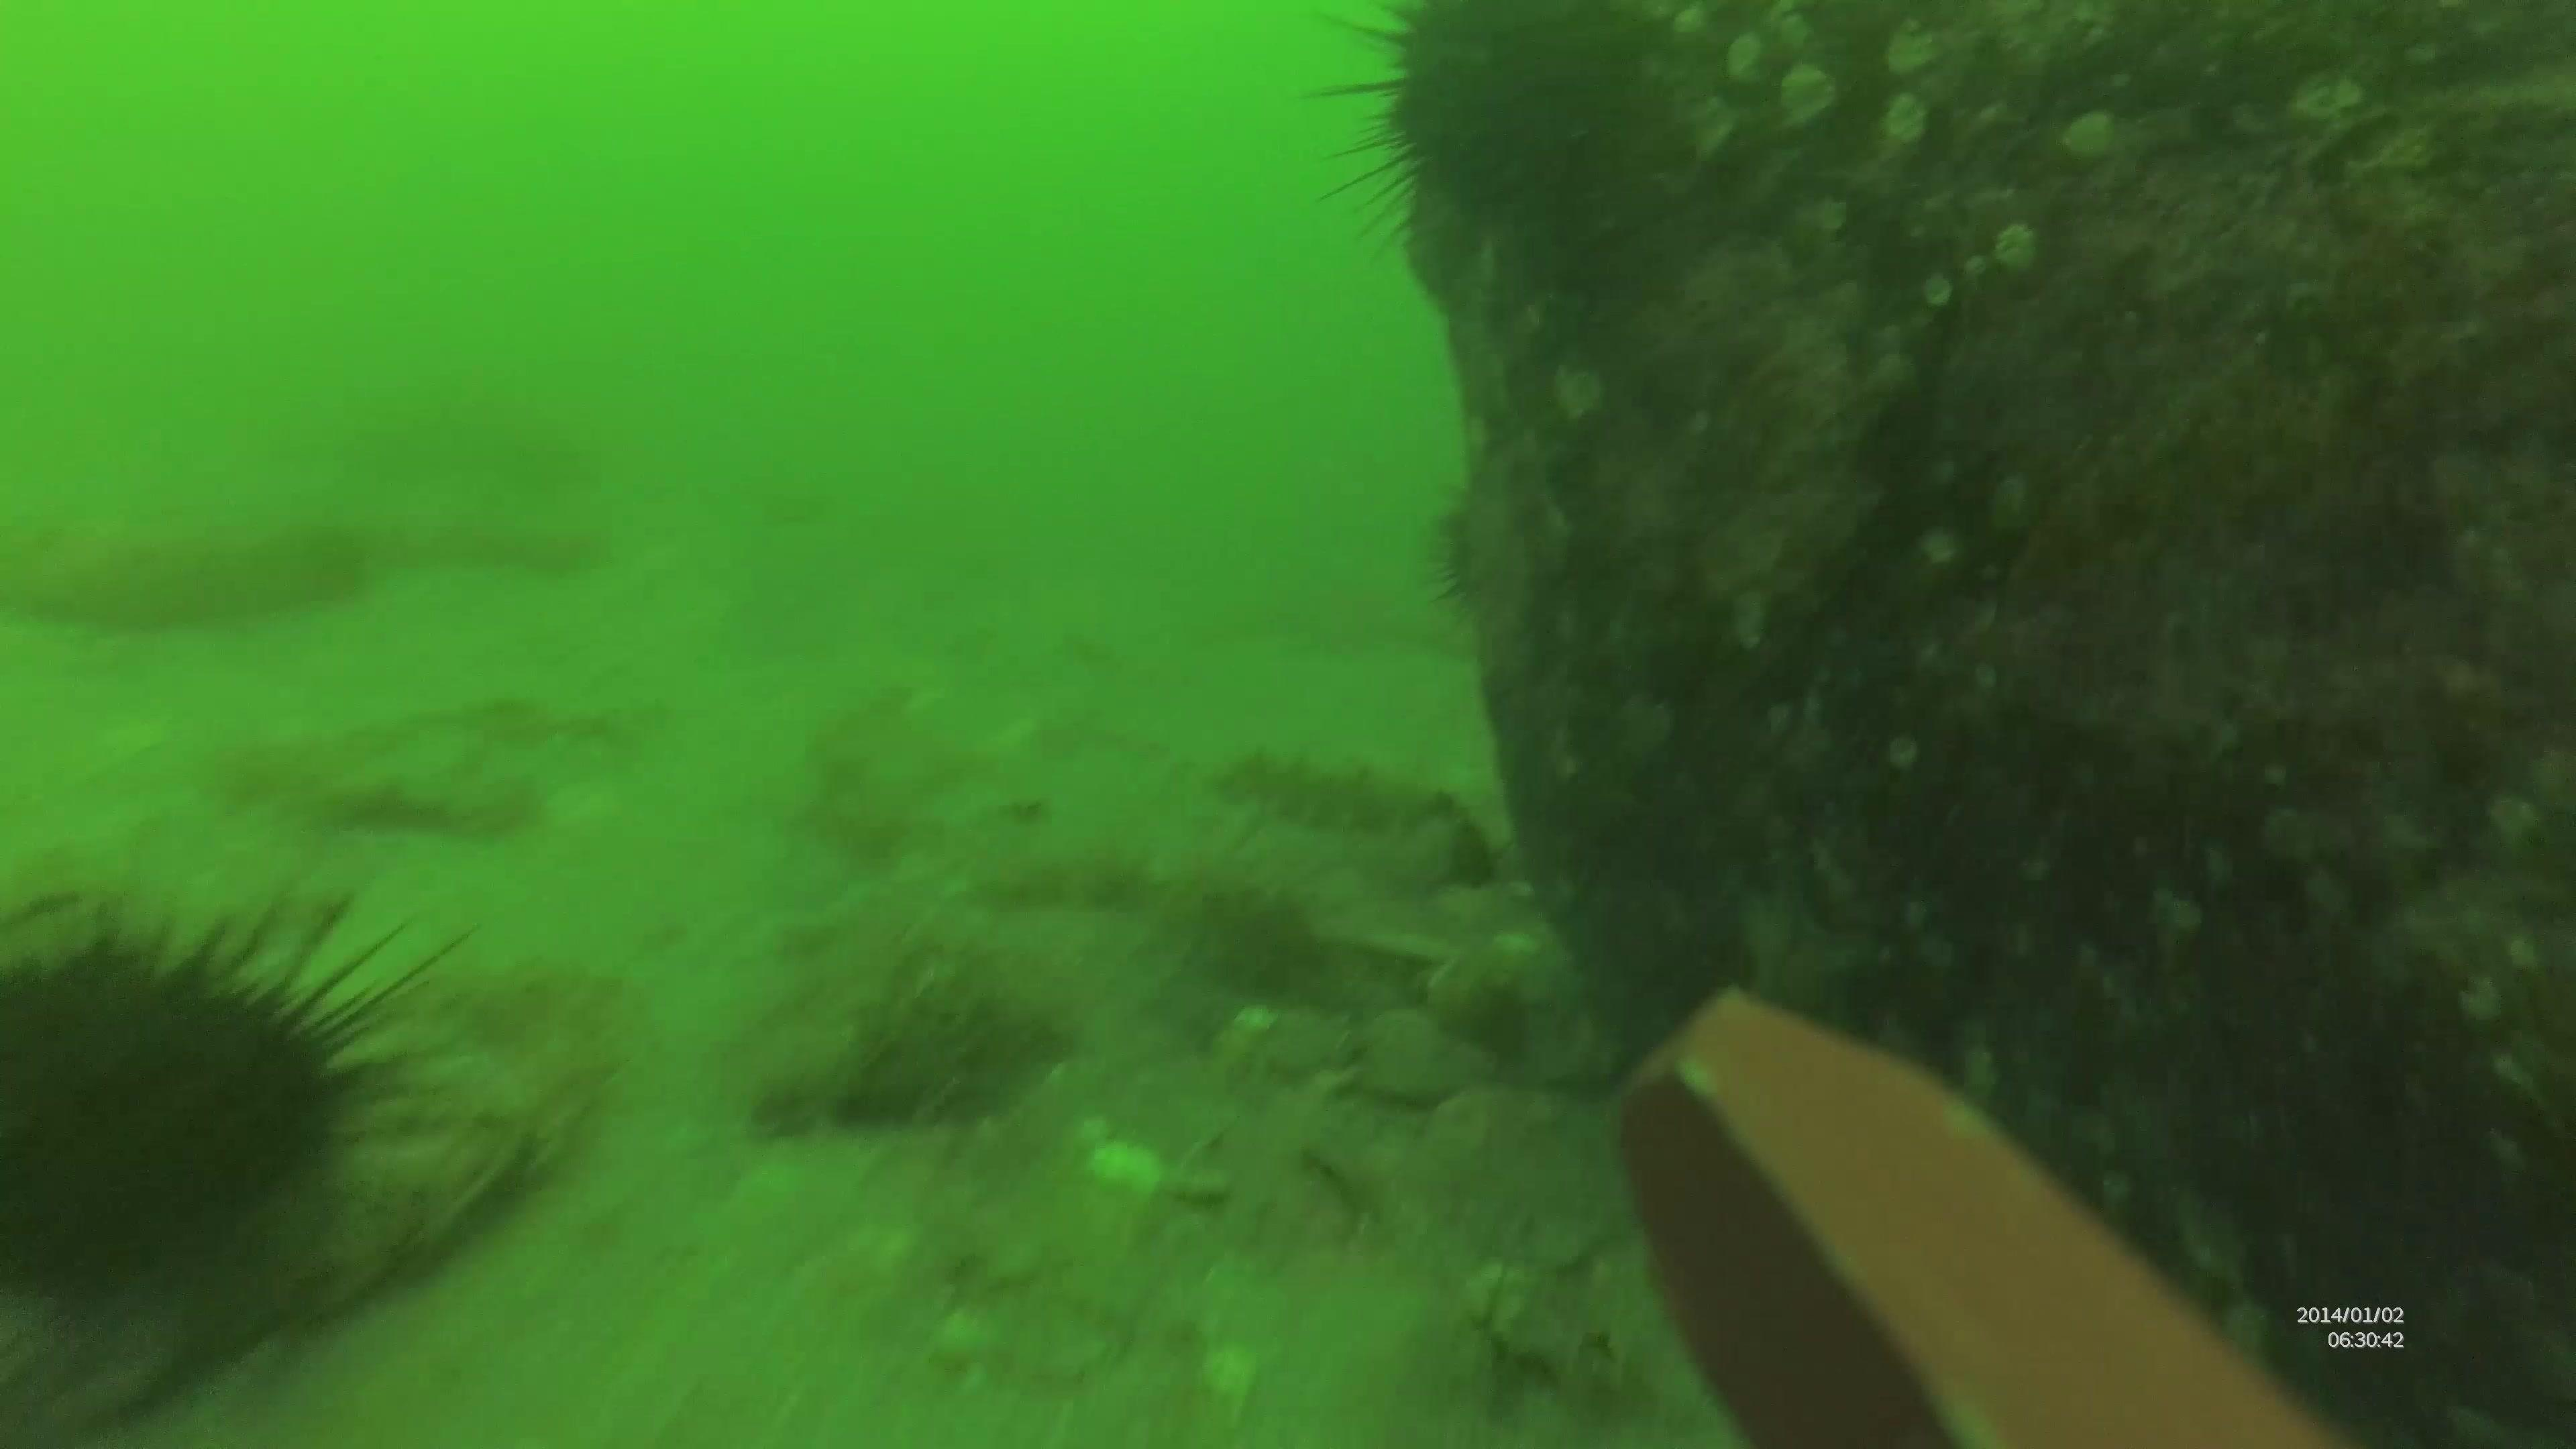echinus: (0, 888, 483, 1288), (1299, 2, 1661, 283), (1422, 499, 1488, 623)
holothurian: (1215, 736, 1497, 858)
